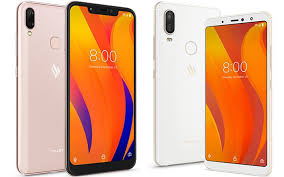vsmart: (200, 8, 273, 177), (66, 1, 136, 175), (14, 1, 67, 175), (153, 1, 206, 168)
